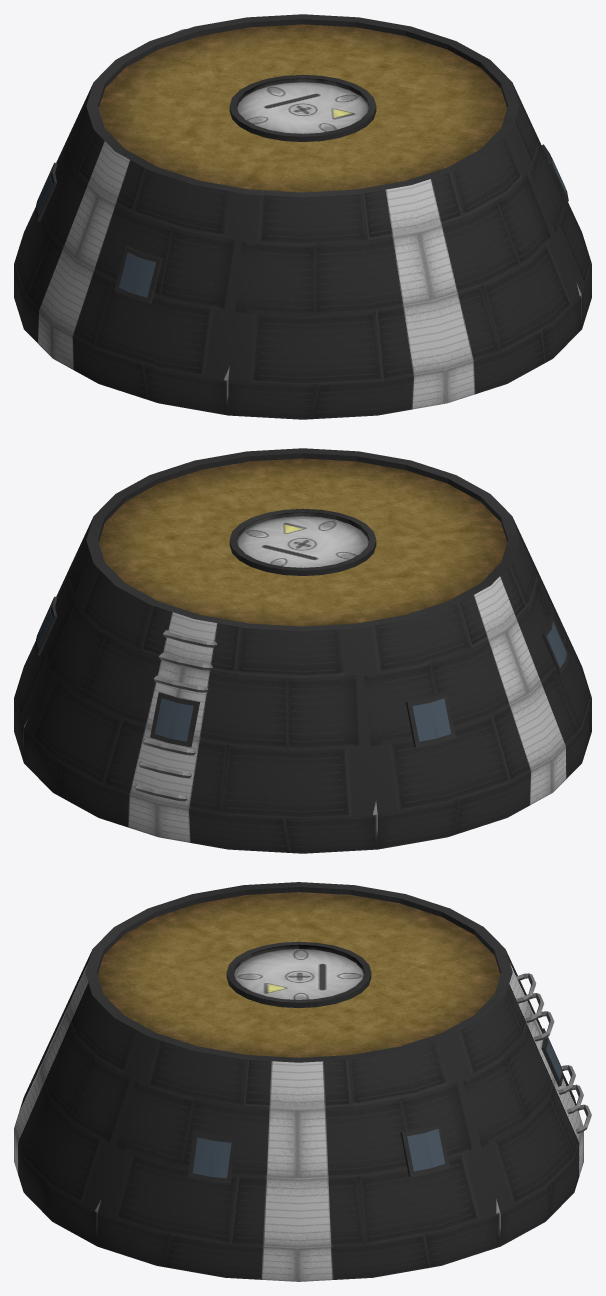
File: BigA.FBX
3 renders of one model, top to bottom at view 1: azimuth 30°, elevation 25°; view 2: azimuth 150°, elevation 25°; view 3: azimuth 270°, elevation 25°, orthographic.
Visible parts, largest first — view 1: MainBody, Cylinder047, WindowCenter003, WindowFrameCenter003; view 2: MainBody, Cylinder047, WindowCenter001, WindowCenter002, WindowFrameCenter001, WindowFrameCenter002; view 3: MainBody, Cylinder047, WindowCenter005, WindowCenter004, WindowFrameCenter005, WindowFrameCenter004.
Part boxes in pixels (bbox=[...]): MainBody: bbox=[14, 14, 591, 419]; Cylinder047: bbox=[229, 74, 376, 141]; WindowCenter003: bbox=[119, 252, 155, 297]; WindowFrameCenter003: bbox=[114, 246, 162, 303]; MainBody: bbox=[14, 448, 591, 853]; Cylinder047: bbox=[229, 508, 376, 575]; WindowCenter001: bbox=[155, 698, 193, 741]; WindowCenter002: bbox=[412, 698, 450, 741]; WindowFrameCenter001: bbox=[150, 692, 199, 747]; WindowFrameCenter002: bbox=[406, 692, 455, 747]; MainBody: bbox=[14, 882, 583, 1281]; Cylinder047: bbox=[226, 941, 371, 1007]; WindowCenter005: bbox=[192, 1137, 231, 1178]; WindowCenter004: bbox=[407, 1128, 445, 1171]; WindowFrameCenter005: bbox=[188, 1132, 237, 1183]; WindowFrameCenter004: bbox=[400, 1122, 449, 1176].
Size of what is drawn, in the model's own units: 2.5 by 0.9157 by 2.53.
Materials: 4 (4 with a texture image).
